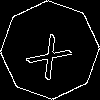X: (25, 25, 81, 81)
